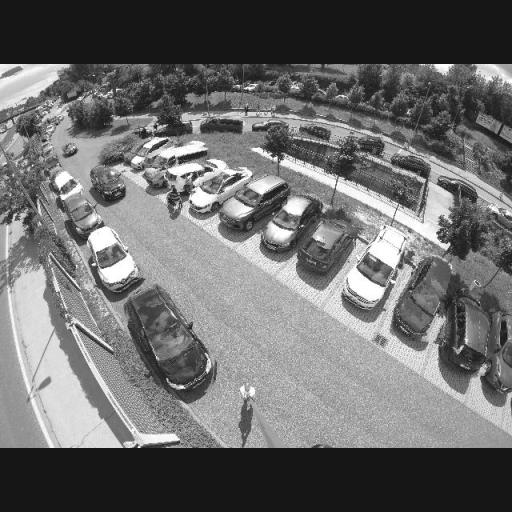busy: (121, 279, 221, 391), (393, 252, 455, 343), (443, 289, 503, 380), (344, 228, 405, 311), (86, 226, 144, 291), (262, 194, 324, 251), (222, 176, 288, 227), (297, 220, 356, 272), (146, 138, 208, 185), (190, 169, 252, 212), (484, 312, 511, 394), (168, 159, 224, 193), (128, 138, 176, 169), (90, 166, 130, 202), (438, 176, 477, 205), (70, 200, 103, 234), (391, 152, 431, 176), (200, 115, 245, 135), (52, 168, 82, 195), (298, 123, 336, 141), (355, 135, 386, 155), (489, 203, 512, 228), (254, 118, 290, 132), (62, 141, 80, 157)
